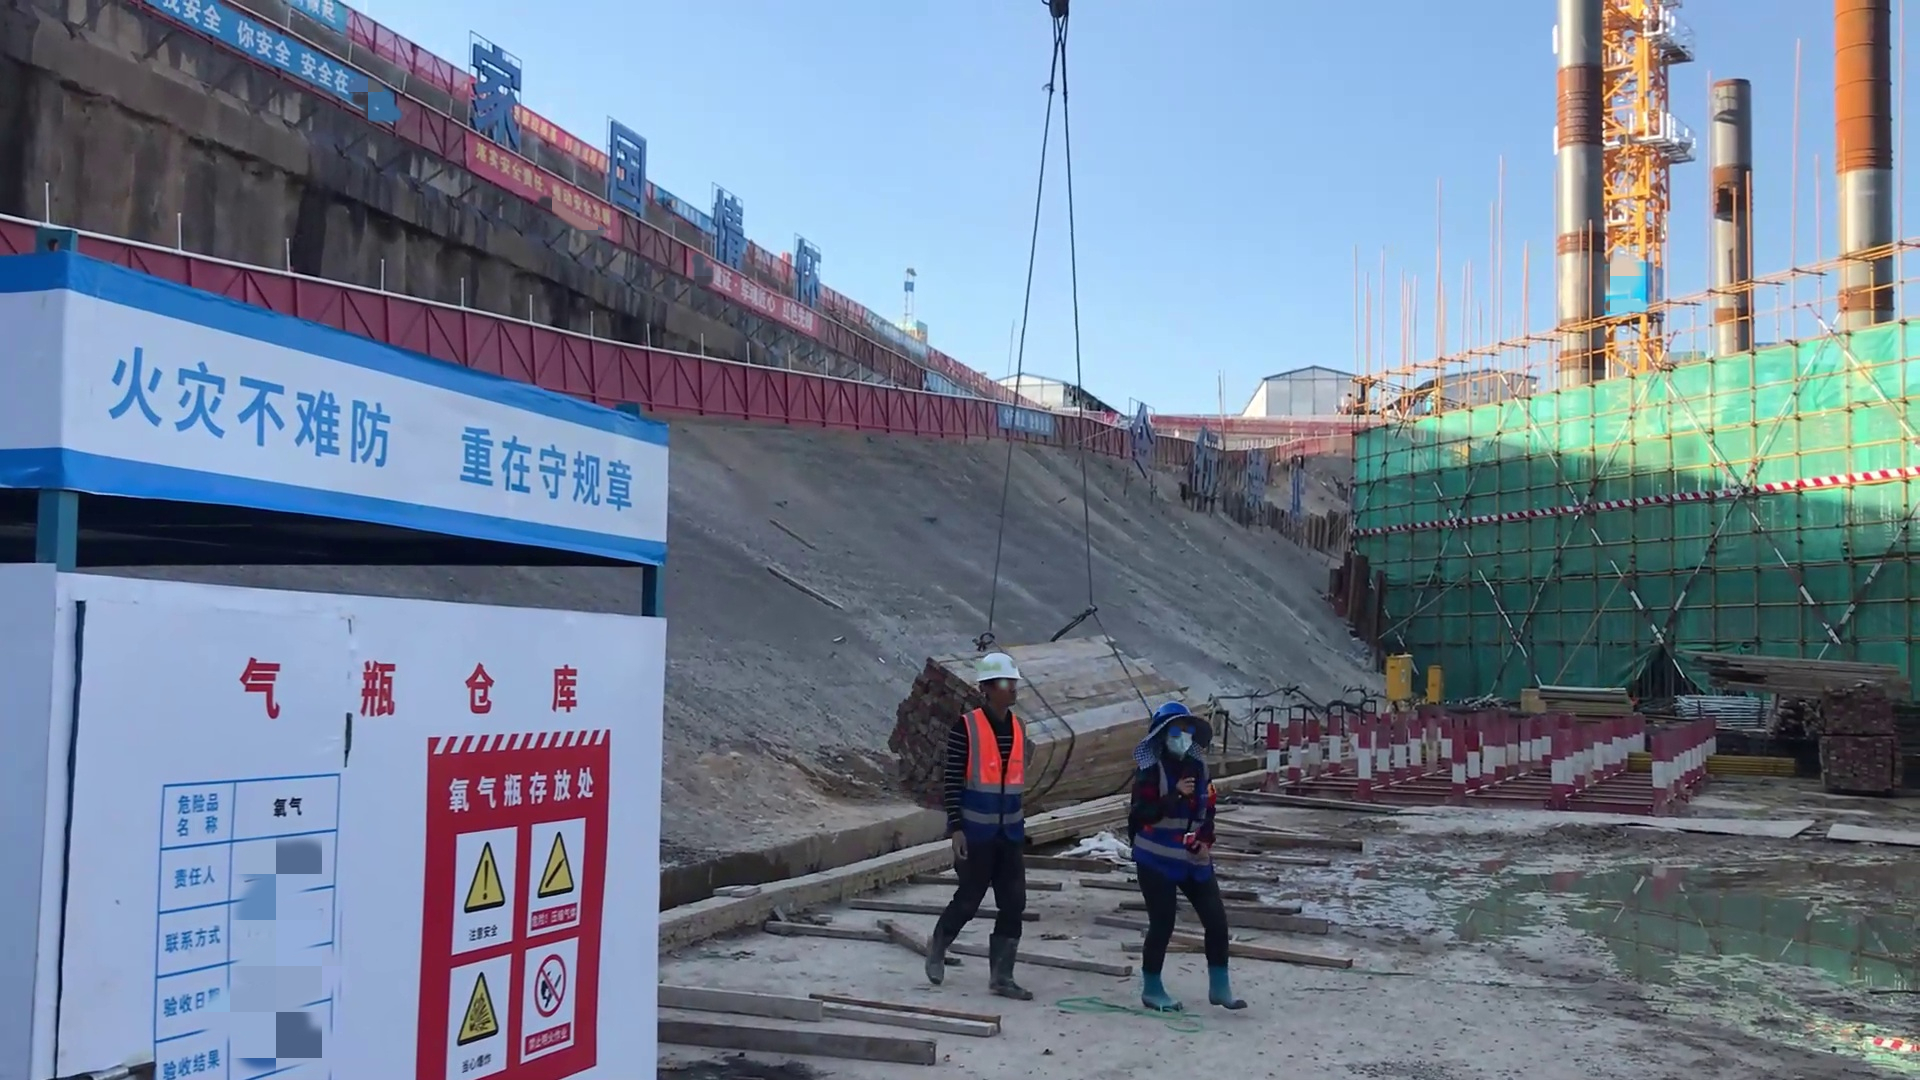ebox: (1384, 651, 1414, 703), (1424, 665, 1441, 704)
fence: (671, 352, 848, 431), (847, 375, 1012, 439)
helmet: (969, 651, 1028, 683)
person: (1119, 696, 1252, 1017), (931, 647, 1030, 994)
slogan: (99, 342, 640, 522), (411, 829, 611, 1066), (125, 5, 366, 115), (438, 122, 622, 265)
vest: (1137, 758, 1222, 878), (950, 705, 1031, 830)
wood: (1674, 639, 1897, 729), (1032, 644, 1144, 812)
